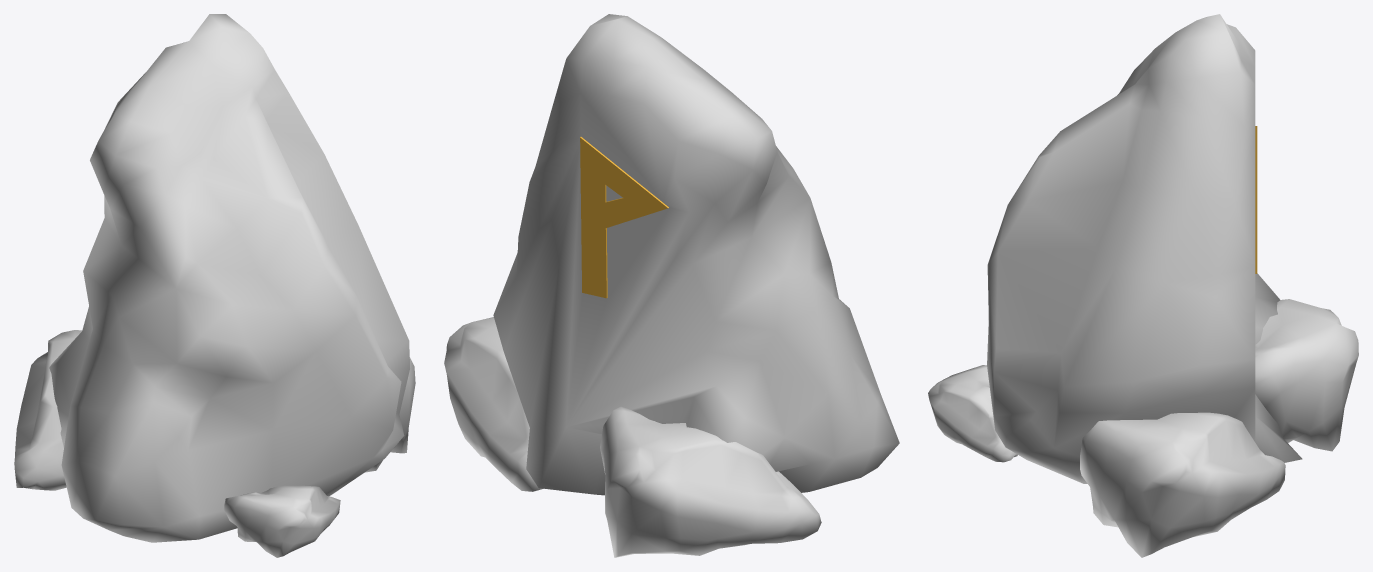
File: Wunjo.fbx
3 renders of one model, left to right at view 1: azimuth 30°, elevation 25°; view 2: azimuth 150°, elevation 25°; view 3: azimuth 270°, elevation 25°, orthographic. The views are drawn at different scales.
Parts seen in each view (by area): view 1: stone; view 2: stone, Wunjo; view 3: stone.
Boxes of the visible parts, x1,y1,x2,y2 form: stone: [14, 14, 415, 557]; stone: [444, 14, 899, 557]; Wunjo: [580, 137, 668, 298]; stone: [928, 14, 1358, 557].
Size of the model in its own units: 155 by 181 by 152.
